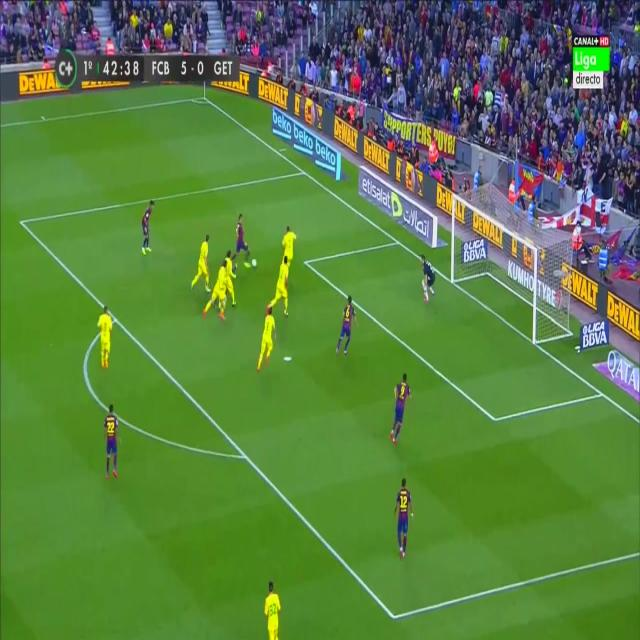Ball: (250, 255, 257, 270)
Goalkeeper: (417, 250, 438, 304)
Player: (392, 475, 415, 566), (387, 369, 412, 450), (251, 306, 279, 378), (201, 259, 229, 325), (333, 293, 359, 358), (188, 230, 214, 294), (267, 253, 292, 317), (102, 402, 120, 487), (96, 302, 116, 374), (261, 581, 283, 640), (138, 195, 157, 261), (232, 209, 250, 269), (225, 246, 238, 308), (283, 222, 297, 260)
